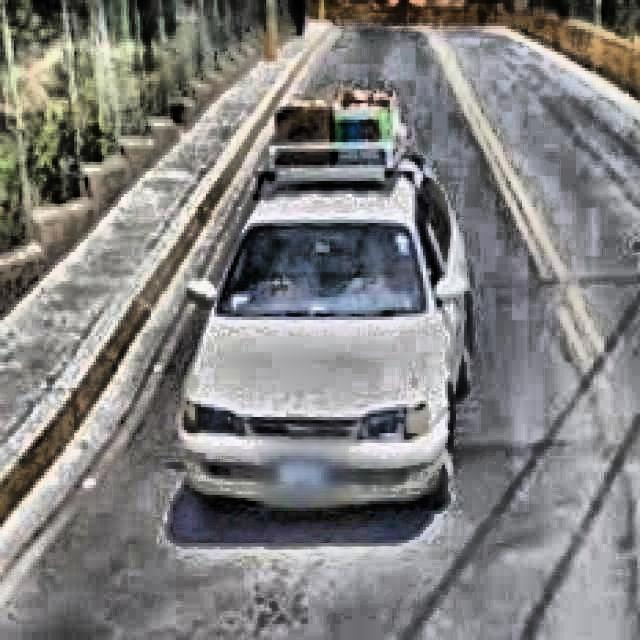carro: (178, 124, 470, 540)
